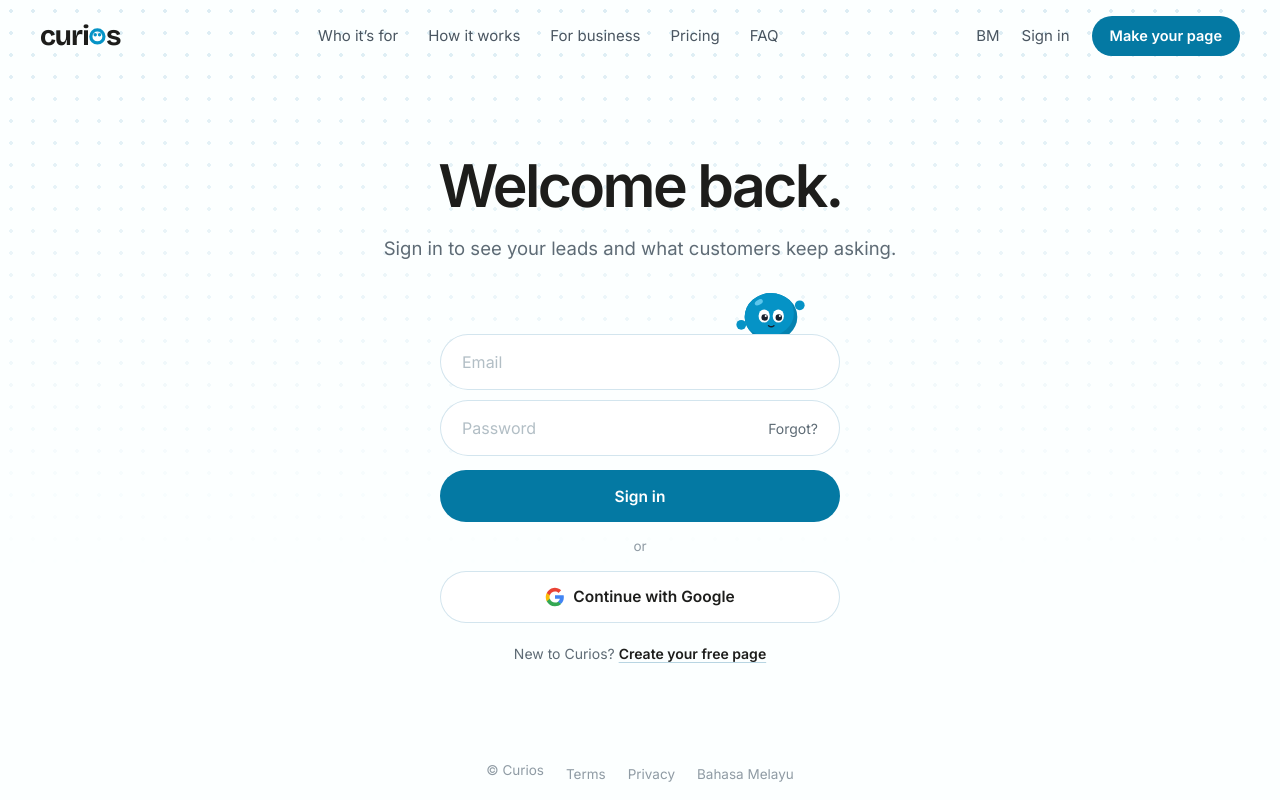
Test case: SignInForm › shows the API message when sign-in fails
This screenshot has width=1280, height=800.
In the field labelled "Email": (641,362) [450, 338, 832, 386], type "nadia@example.com"
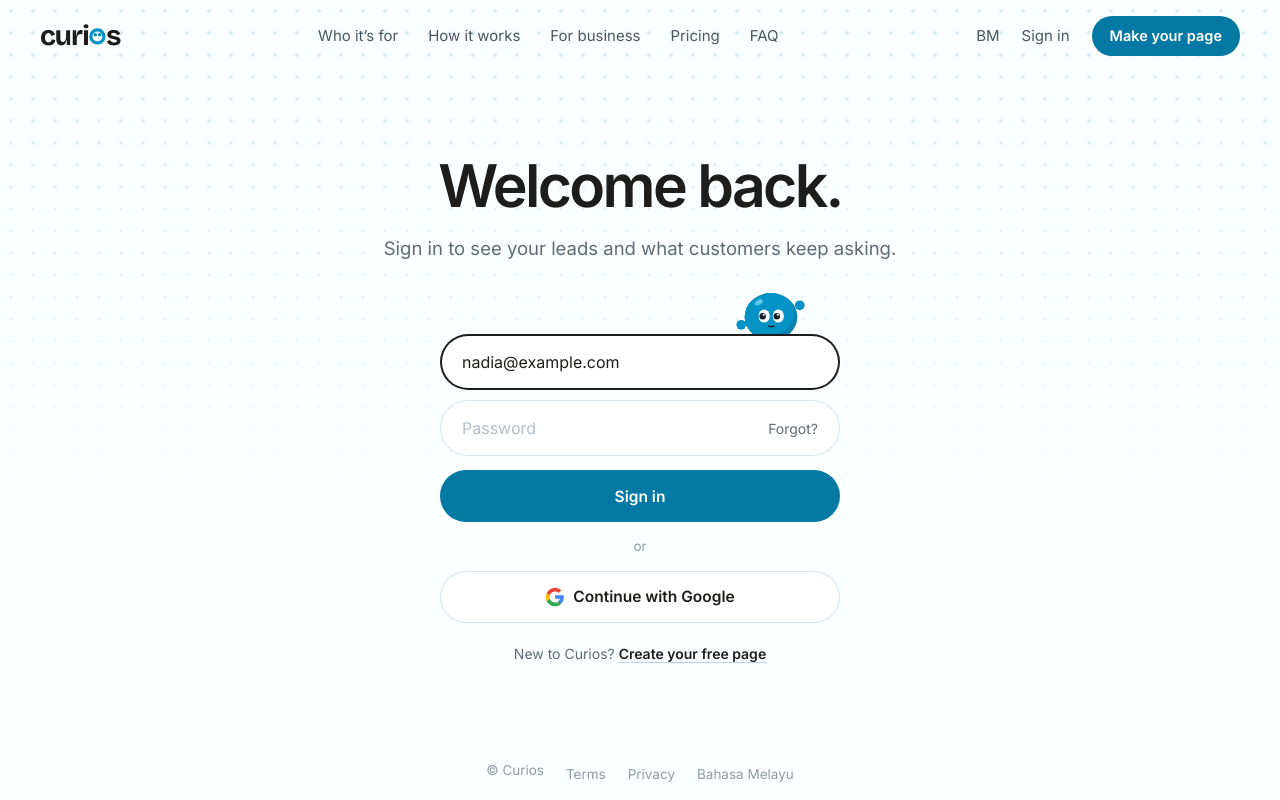
In the password field labelled "Password": (597,428) [450, 404, 744, 452], type "a-long-enough-passphrase"
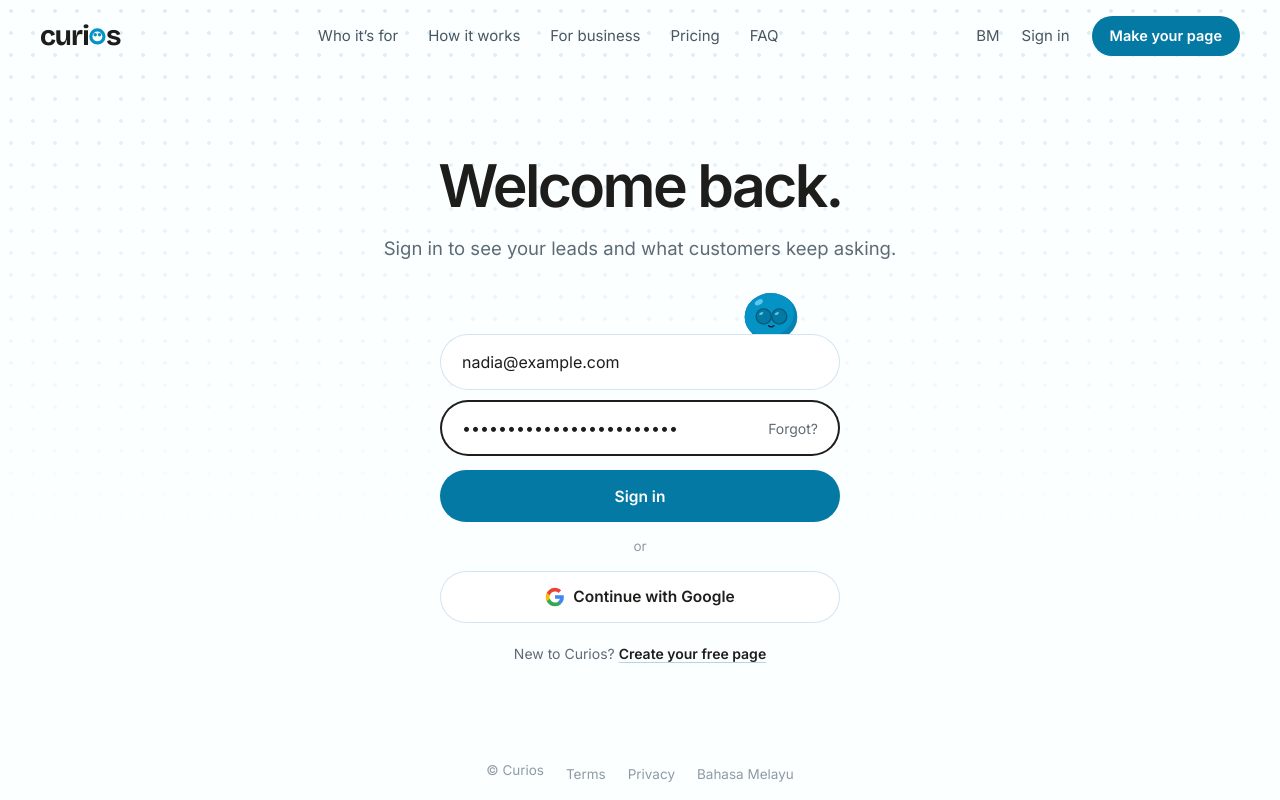
Click the button "Sign in": (640,496) [440, 470, 840, 522]
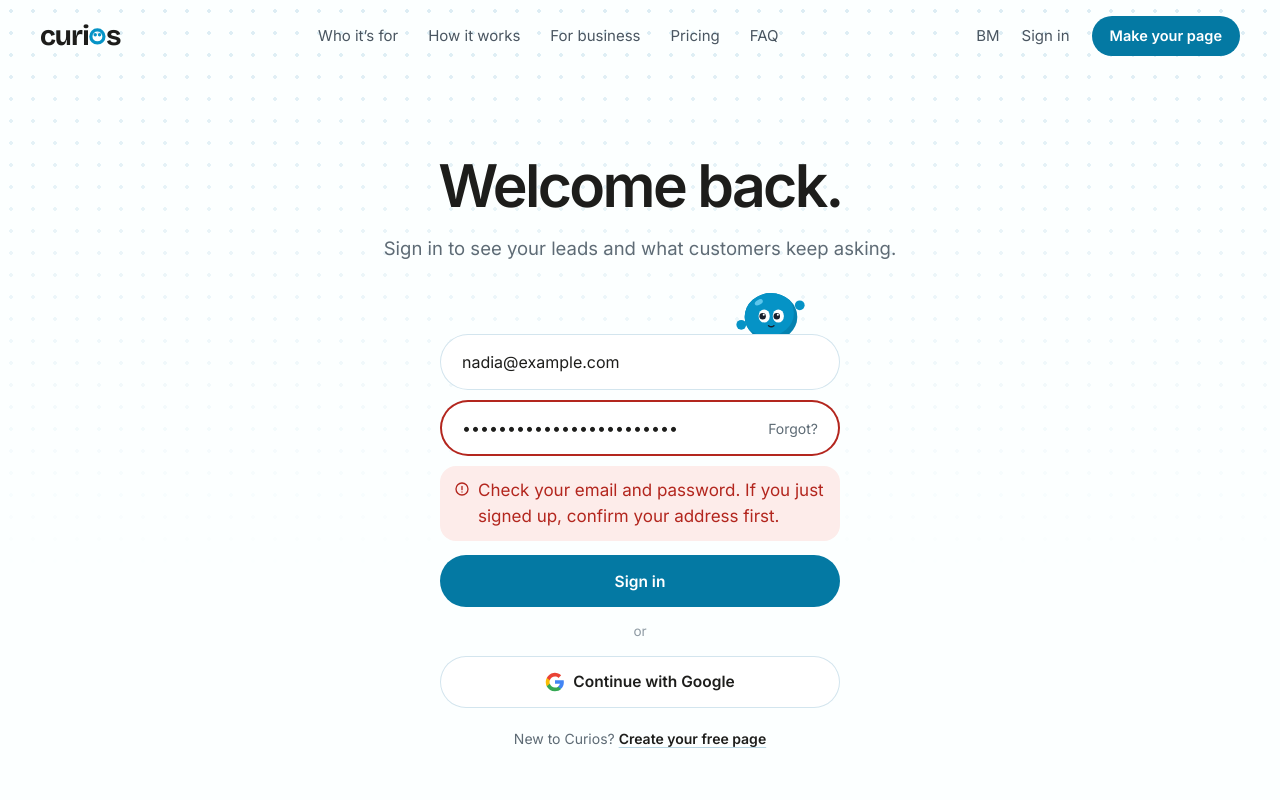
Result: the text "Check your email and password" is shown at [478, 480, 824, 526]
